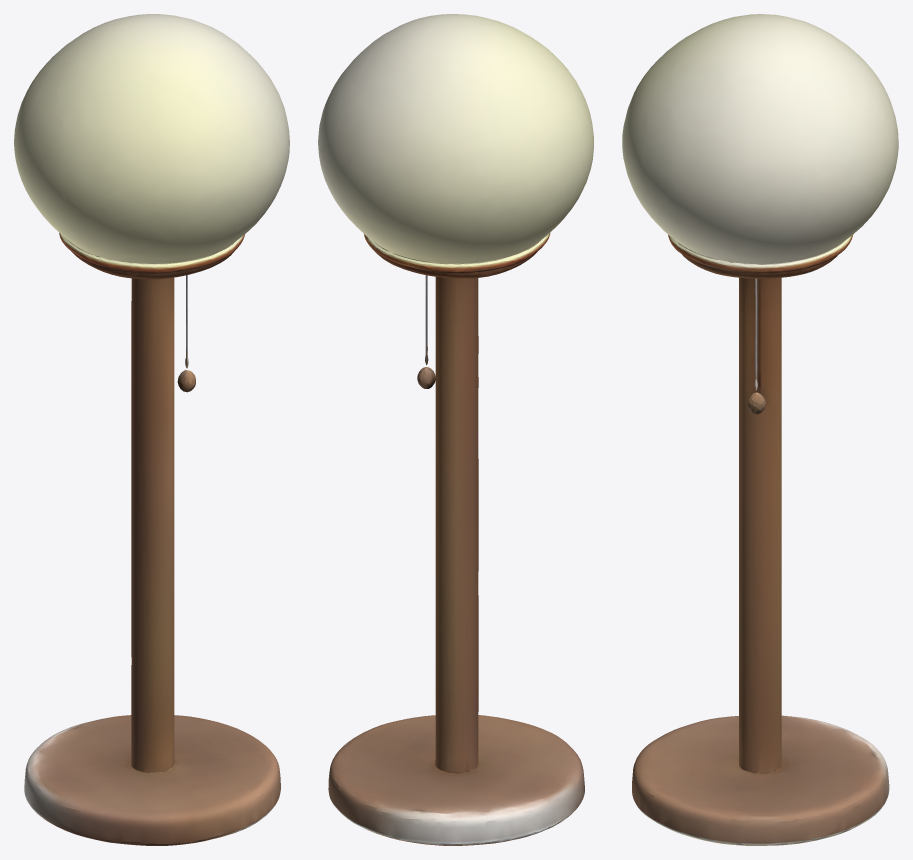
Rendered from floor_lamp.glb.
The picture shows the model from 3 angles, left to right: view 1: azimuth 30°, elevation 25°; view 2: azimuth 150°, elevation 25°; view 3: azimuth 270°, elevation 25°; orthographic projection.
Parts seen in each view (by area): view 1: model; view 2: model; view 3: model.
Part boxes in pixels (<box>): model: <box>14,14,289,845</box>; model: <box>318,14,593,845</box>; model: <box>622,14,898,845</box>.
Size of the model in its own units: 0.5777 by 1.78 by 0.581.
1 material, 1 textured.
